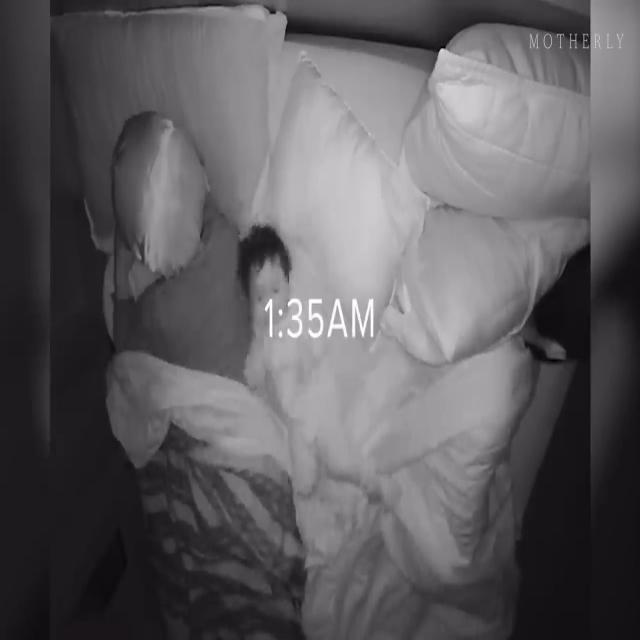baby: (238, 228, 390, 510)
